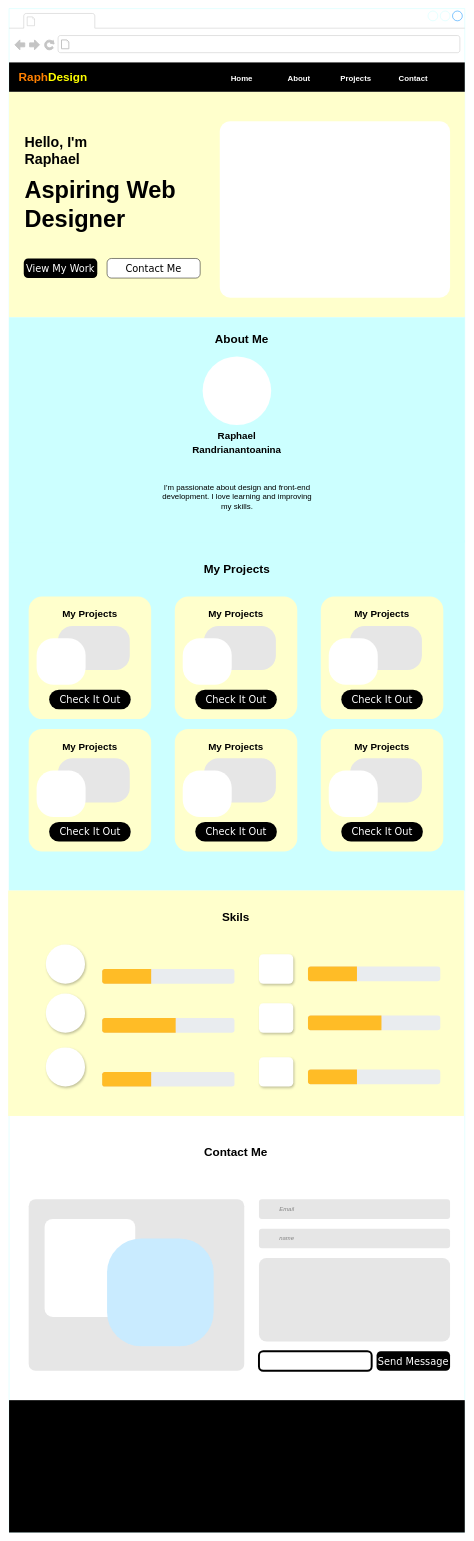
This 474x1541 diagram has some shape labels left out. Each missing label, with the centre of its shape:
"https://www.draw.io" belongs at point 133,44.
"Page 1" belongs at point 65,20.
"Remove" belongs at point 315,1361.
